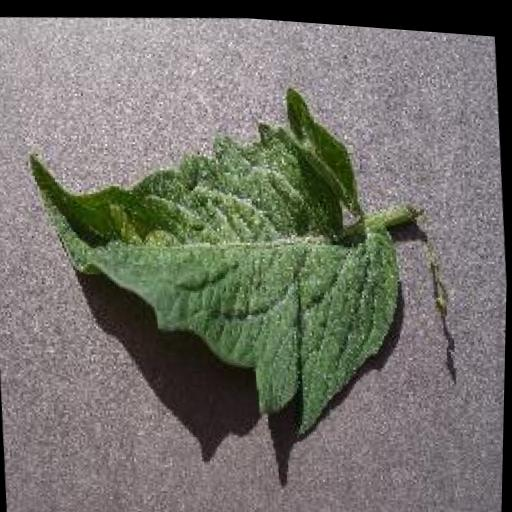Spider Mites: (16, 60, 417, 448)
